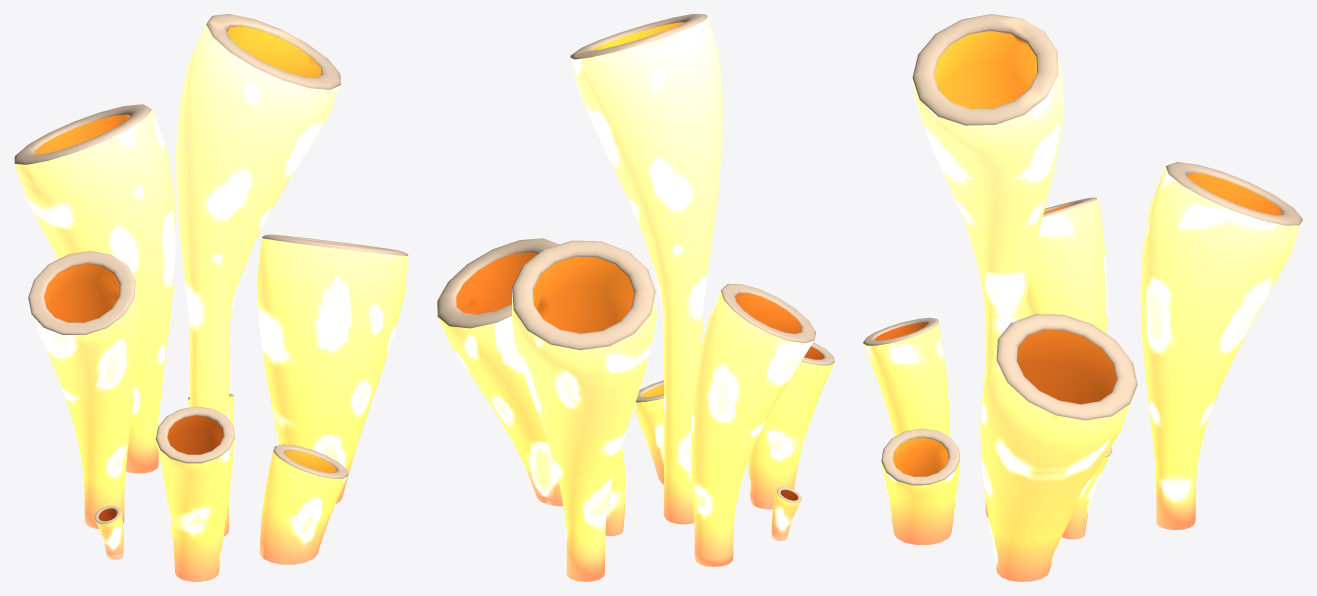
File: adult.fbx
3 views of the same model, side by side, from view 1: azimuth 30°, elevation 25°; view 2: azimuth 150°, elevation 25°; view 3: azimuth 270°, elevation 25° (orthographic). The views are drawn at different scales.
Parts seen in each view (by area): view 1: adult; view 2: adult; view 3: adult.
Part boxes in pixels (<box>): adult: <box>14,14,408,581</box>; adult: <box>437,14,834,581</box>; adult: <box>863,14,1302,581</box>.
Size of the model in its own units: 41161 by 53521 by 42664.
